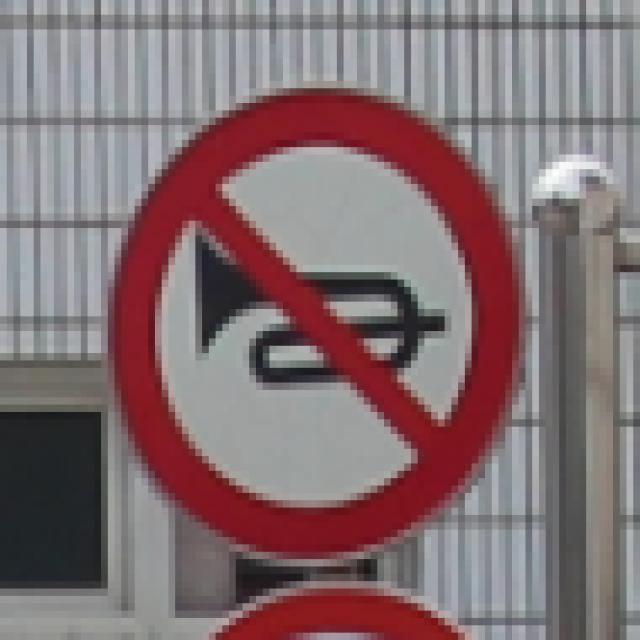No Horn: (113, 86, 520, 568)
